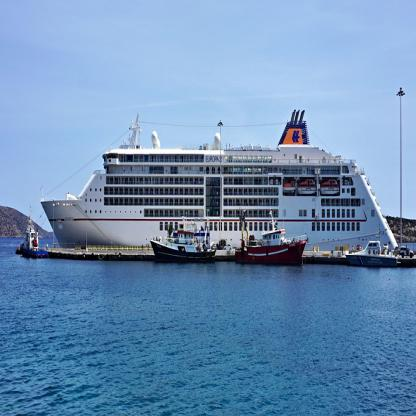Fishing Boat: (235, 211, 308, 263), (346, 241, 398, 267), (20, 218, 49, 256)
